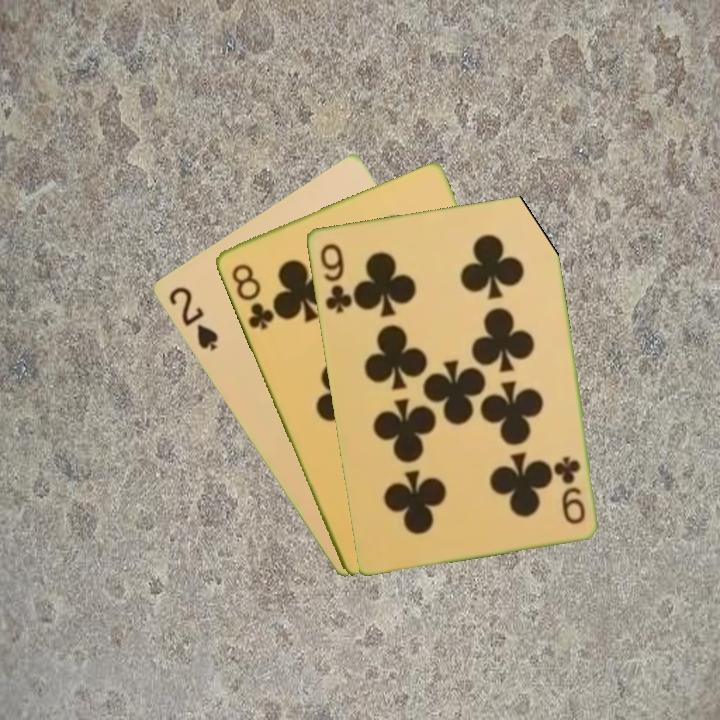2s: (164, 283, 221, 354)
8c: (227, 259, 277, 333)
9c: (316, 239, 354, 316), (552, 452, 588, 527)
